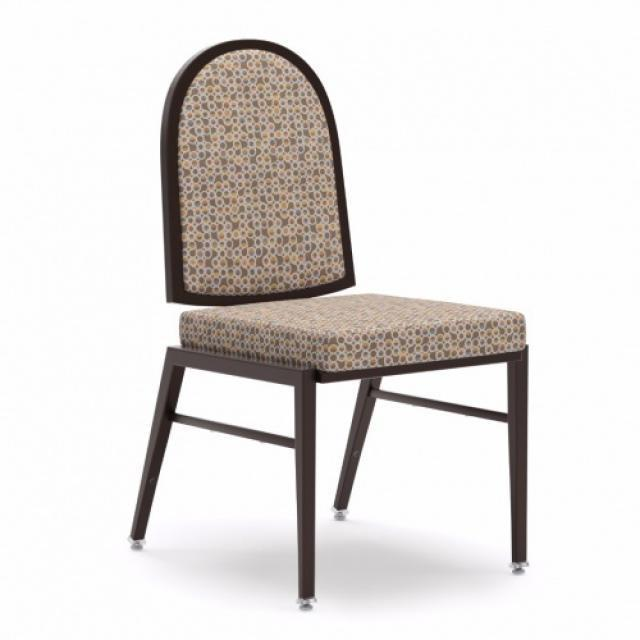chair: (126, 37, 536, 613)
